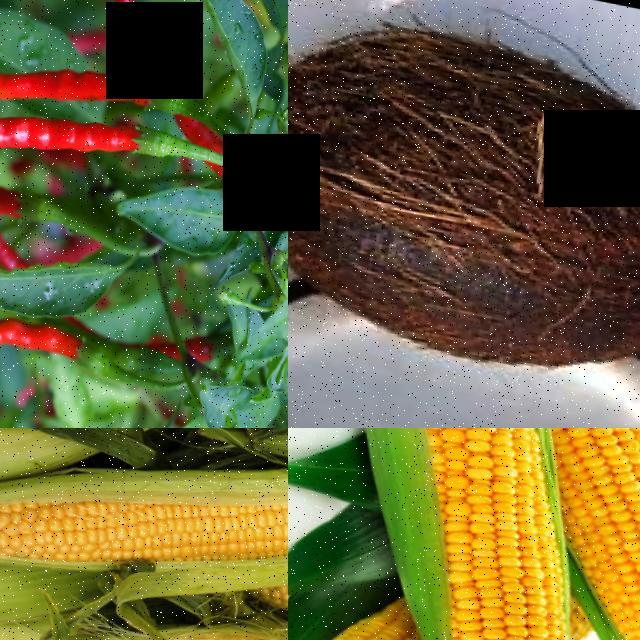chilli: (0, 25, 182, 112), (0, 84, 185, 165)
coconut: (288, 0, 640, 390), (288, 303, 640, 428)
corn: (0, 428, 288, 619), (387, 428, 583, 573), (412, 537, 593, 640), (513, 428, 640, 556), (303, 600, 462, 640)
